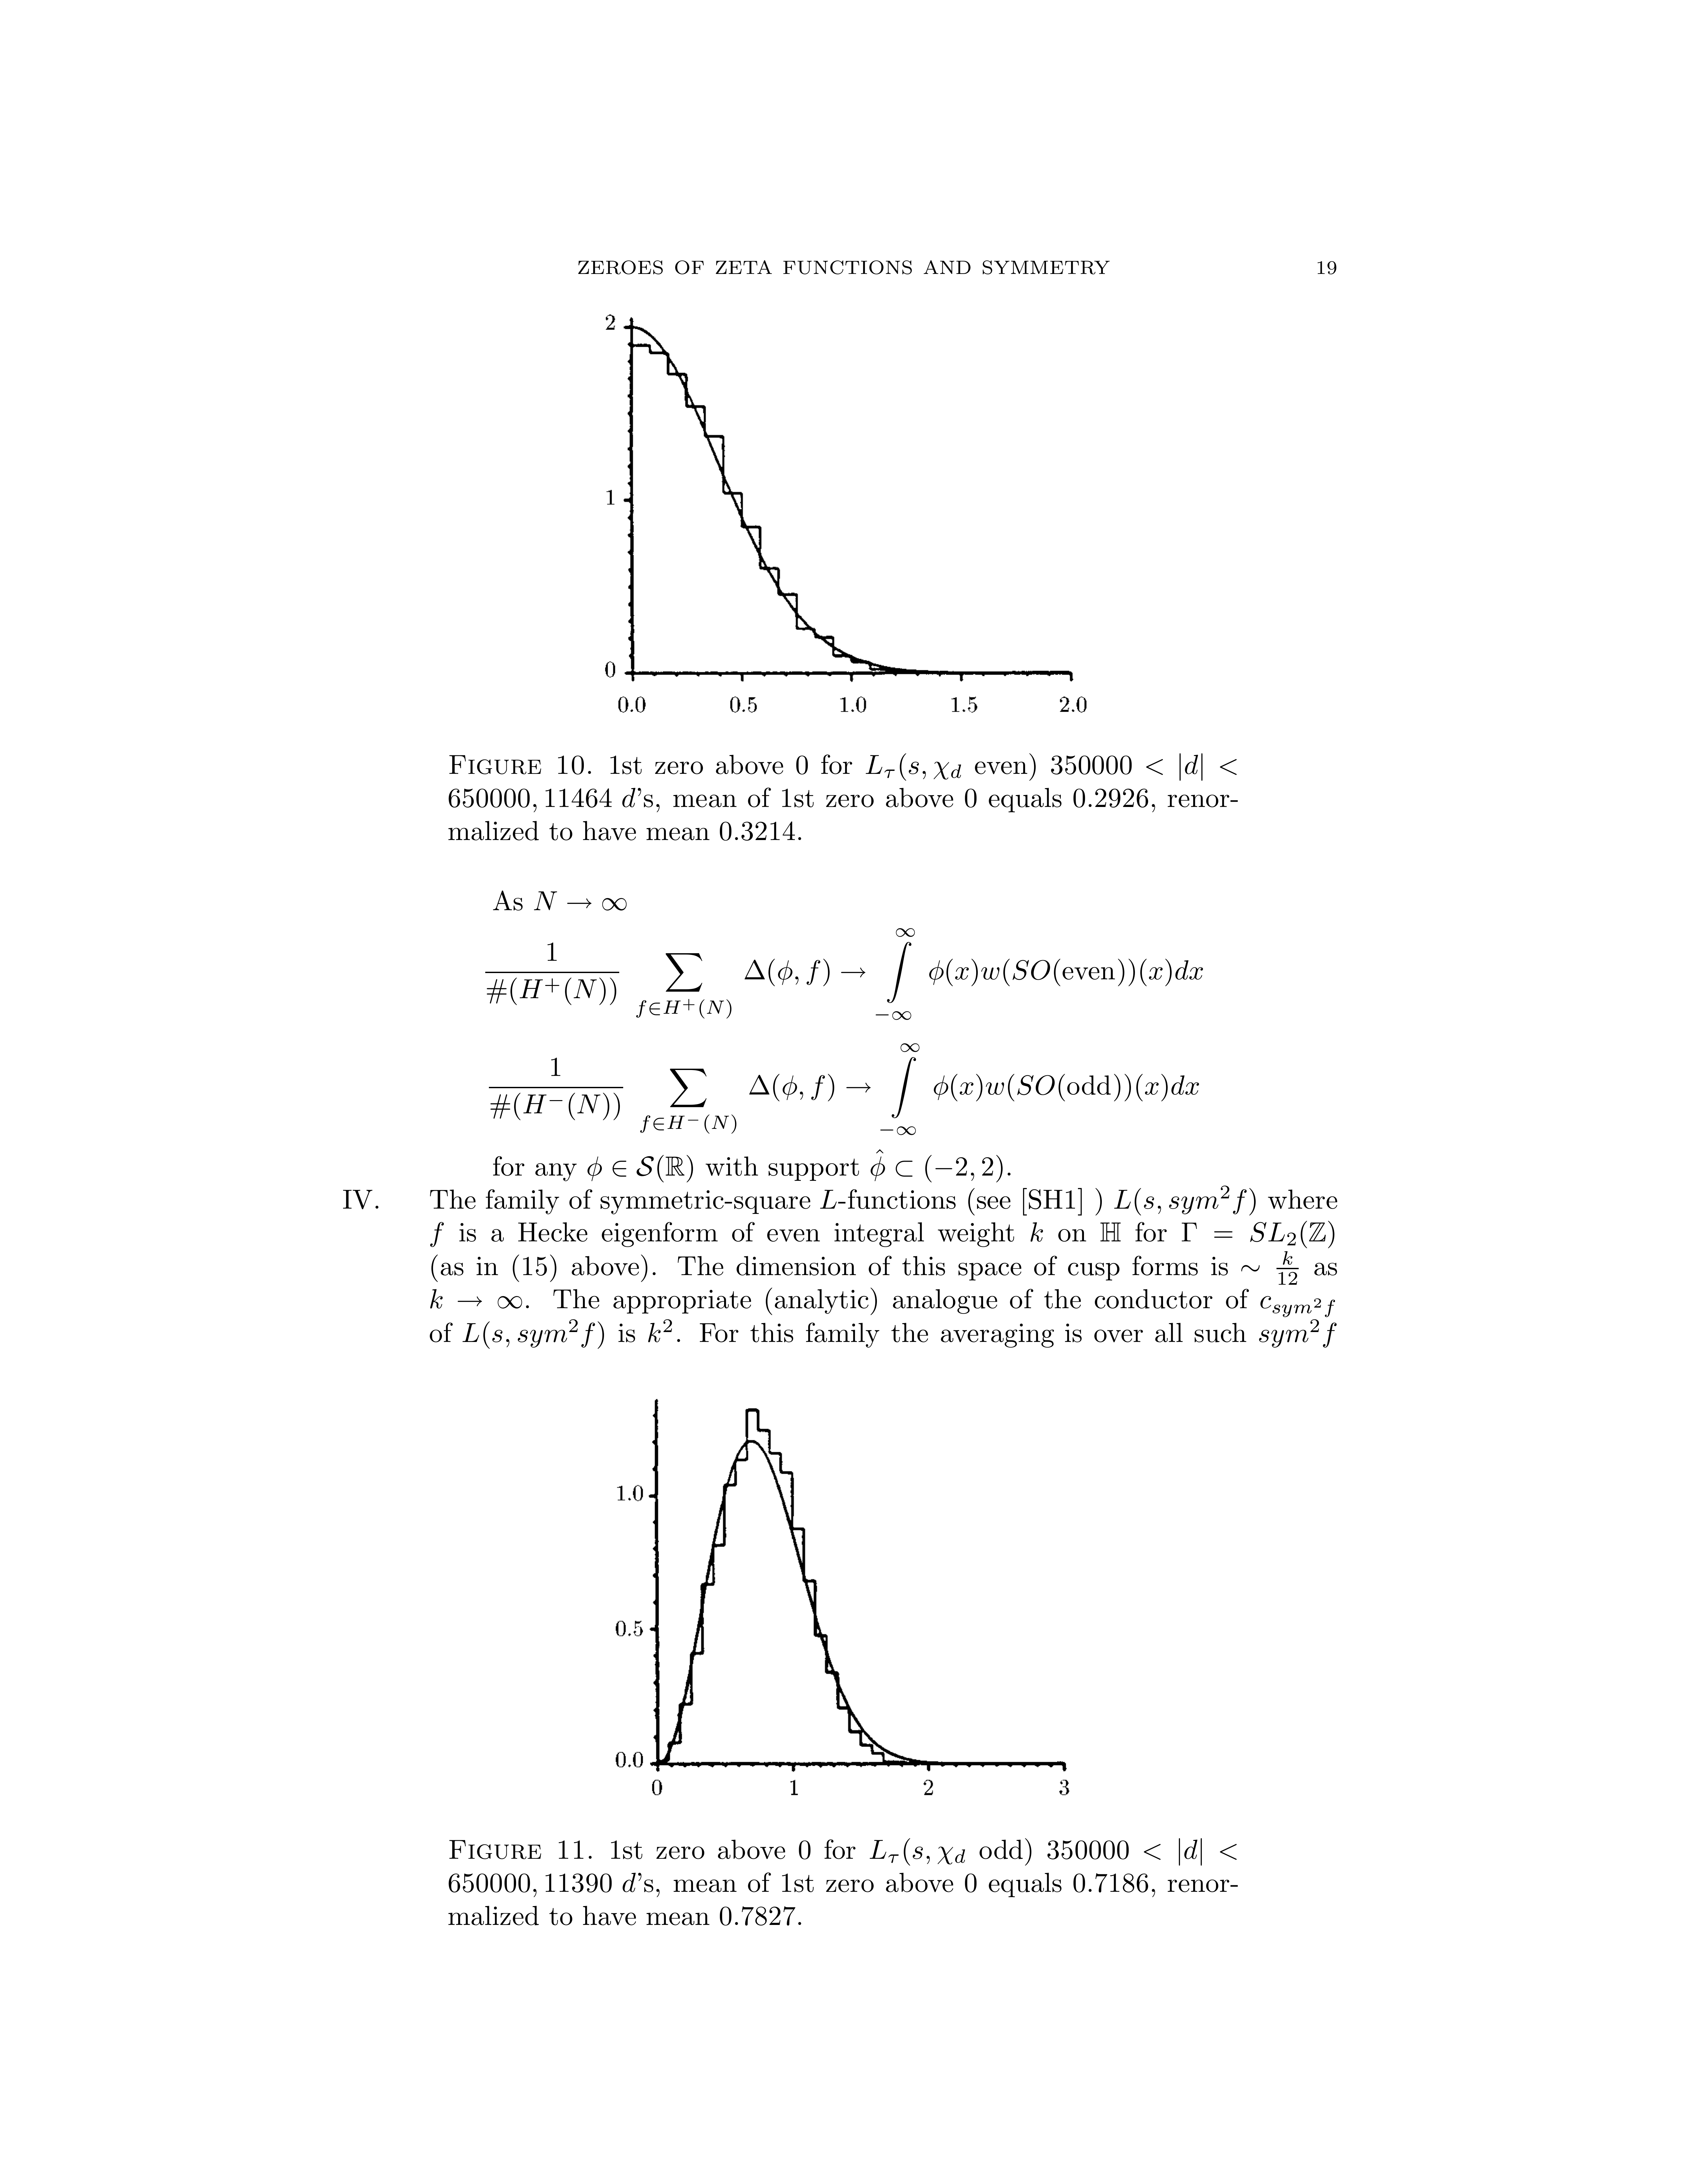maths: (489, 1042, 1054, 1135), (486, 929, 1049, 1019), (1047, 1838, 1237, 1865), (870, 1149, 1003, 1182), (463, 1319, 604, 1349), (1115, 1186, 1255, 1216), (1182, 1221, 1334, 1248), (588, 1156, 693, 1182), (1147, 753, 1237, 780), (1258, 1319, 1336, 1347), (1129, 959, 1203, 986), (1125, 1074, 1198, 1101), (1242, 1252, 1299, 1285), (431, 1289, 521, 1308), (546, 787, 634, 807), (533, 892, 626, 909), (870, 1838, 930, 1865), (1260, 1296, 1334, 1317), (867, 753, 925, 780), (1051, 755, 1131, 775), (719, 1906, 796, 1925), (719, 821, 794, 840), (448, 789, 530, 807), (448, 1874, 530, 1891), (1074, 789, 1148, 807), (1074, 1874, 1148, 1891), (546, 1874, 611, 1891), (622, 1872, 652, 1891), (649, 1319, 672, 1342), (934, 762, 960, 780), (937, 1847, 964, 1865), (1100, 1223, 1120, 1241), (431, 1221, 443, 1246), (796, 755, 808, 775), (1031, 1221, 1042, 1241), (799, 1840, 810, 1860), (966, 789, 976, 807), (1024, 1838, 1031, 1865), (966, 1874, 976, 1891), (1030, 753, 1035, 780)
